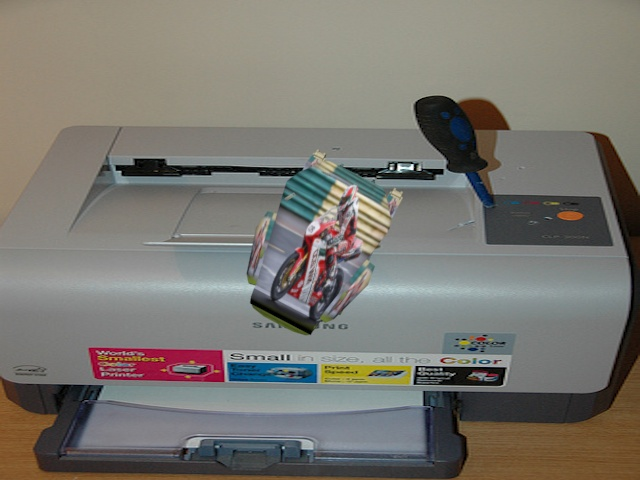back_pack: (240, 144, 416, 337)
